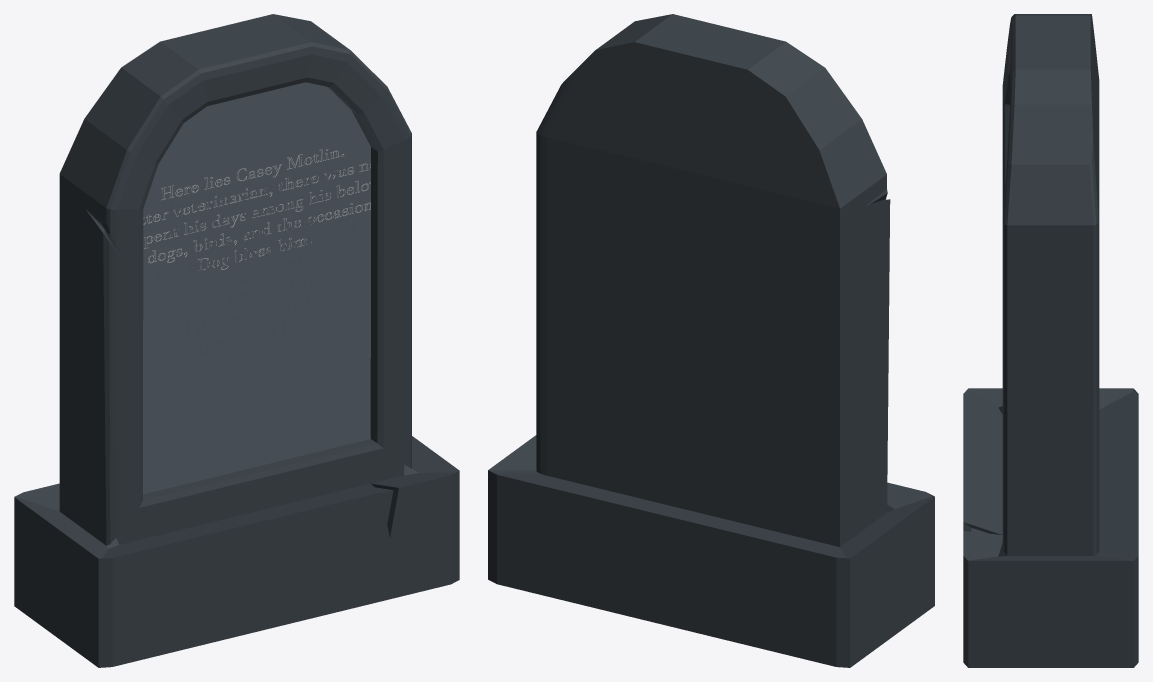
File: tombstone.fbx
The picture shows the model from 3 angles, left to right: view 1: azimuth 30°, elevation 25°; view 2: azimuth 150°, elevation 25°; view 3: azimuth 270°, elevation 25°; orthographic projection. The views are drawn at different scales.
Parts seen in each view (by area): view 1: Tombstone, Tombstone.001, Text; view 2: Tombstone; view 3: Tombstone.
Part boxes in pixels (x1,y1,x2,y2): Tombstone: [14, 14, 459, 667]; Tombstone.001: [143, 82, 370, 494]; Text: [158, 164, 356, 354]; Tombstone: [488, 14, 934, 667]; Tombstone: [963, 14, 1138, 667].
Size of the model in its own units: 42.35 by 61.67 by 18.18.
